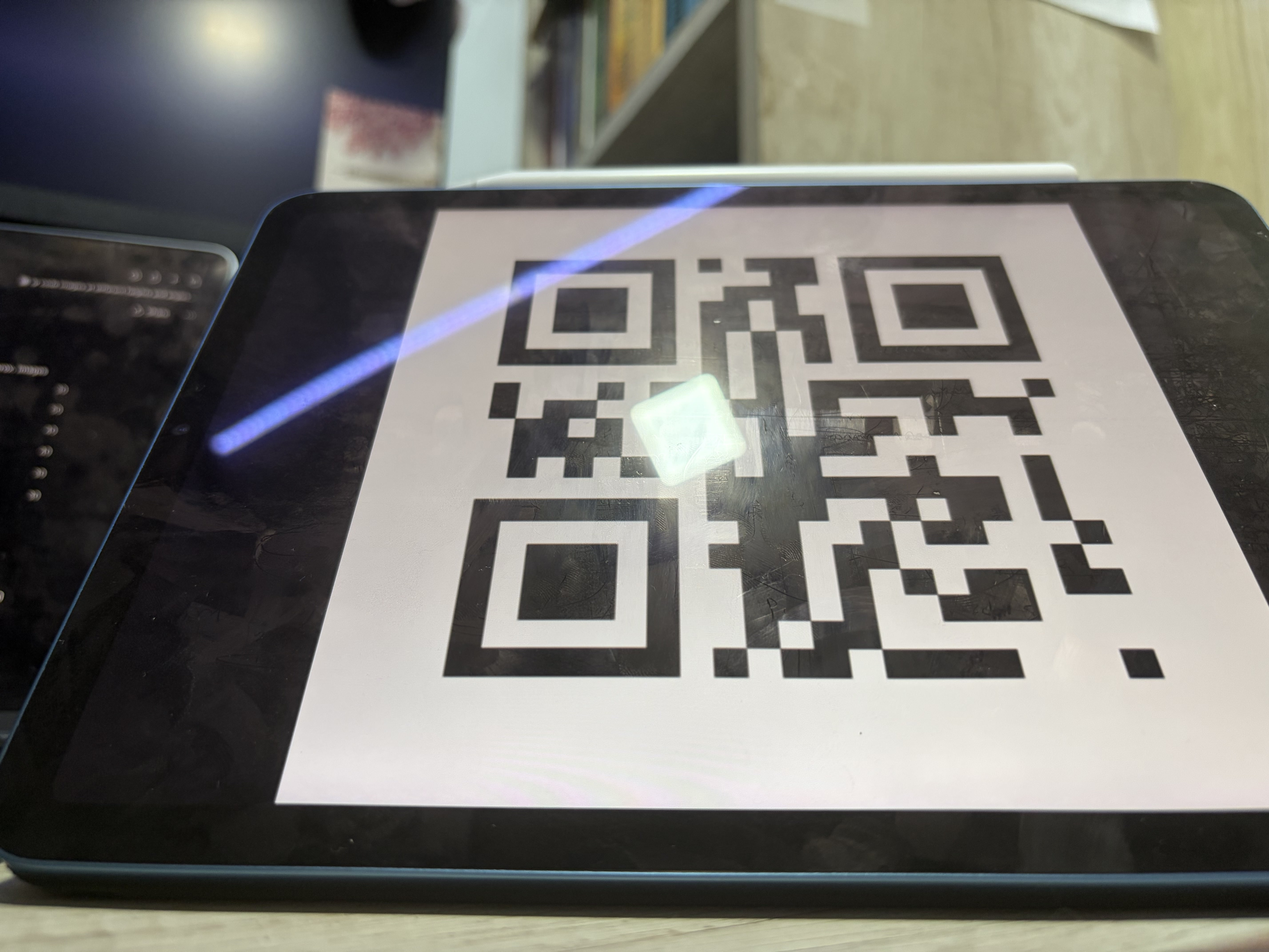QR: (474, 211, 1147, 724)
